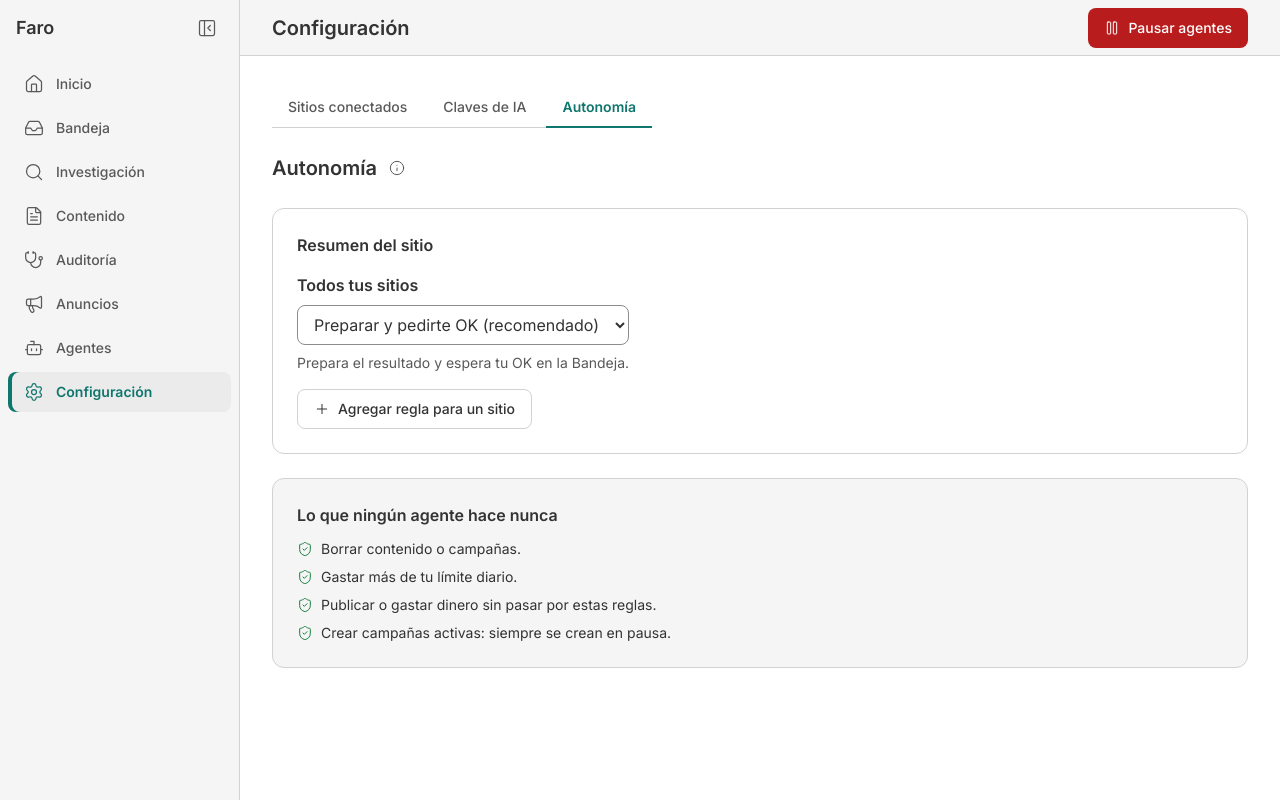
Test: Configuración → Autonomía (spec F1b §3.7) › error al guardar: toast con el mensaje
This screenshot has width=1280, height=800.
Select "Actuar con límites" in the dropdown named "Nivel de Resumen del sitio en Todos tus sitios". click: (463, 325)
box: 297,305 -> 629,345
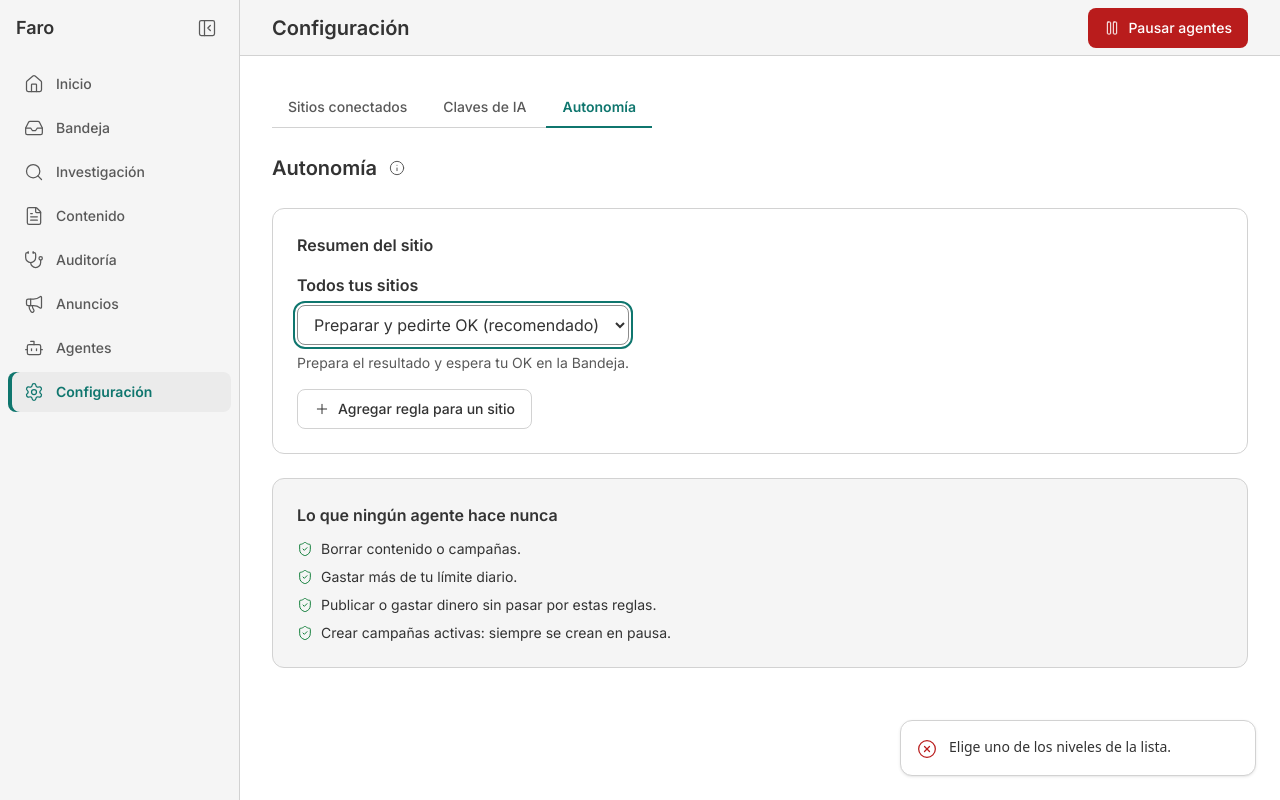
Expected: the text "Elige uno de los niveles de la lista." is shown, 949,737 -> 1171,757
